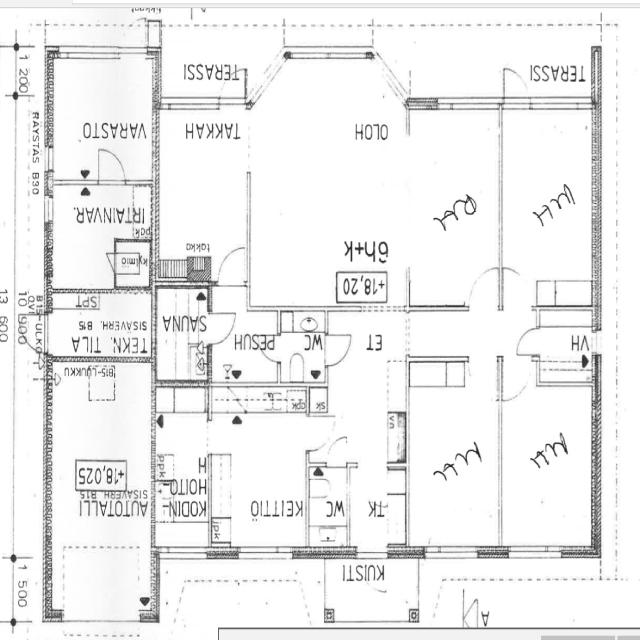door: (464, 262, 502, 315), (499, 261, 534, 314), (214, 242, 250, 290), (498, 356, 534, 404), (498, 64, 532, 114), (95, 145, 128, 187), (216, 72, 249, 111), (206, 308, 238, 348), (512, 323, 544, 361), (323, 330, 354, 369), (305, 414, 335, 454), (120, 20, 148, 59), (325, 434, 350, 468), (102, 250, 118, 274)
window: (156, 96, 248, 115), (505, 539, 567, 565), (434, 92, 501, 116), (288, 45, 369, 64), (422, 541, 483, 563), (235, 542, 295, 564), (526, 95, 592, 115), (59, 46, 124, 64), (160, 542, 208, 562), (352, 543, 391, 563), (7, 558, 18, 622), (39, 312, 52, 356), (8, 48, 20, 95), (42, 191, 56, 228), (589, 327, 604, 359), (42, 142, 55, 174)
zone: (250, 58, 412, 312), (45, 362, 155, 622), (498, 102, 600, 306), (408, 105, 501, 309), (403, 360, 501, 548), (498, 383, 596, 553), (157, 106, 250, 279), (49, 56, 157, 181), (209, 414, 309, 549), (46, 183, 154, 291), (154, 390, 209, 538), (46, 291, 154, 359), (154, 284, 210, 385), (346, 462, 408, 553), (536, 306, 598, 386), (277, 313, 328, 387), (307, 465, 350, 552), (114, 241, 152, 290)
